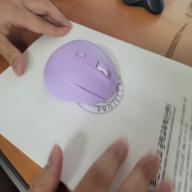mouse: (44, 38, 119, 104)
